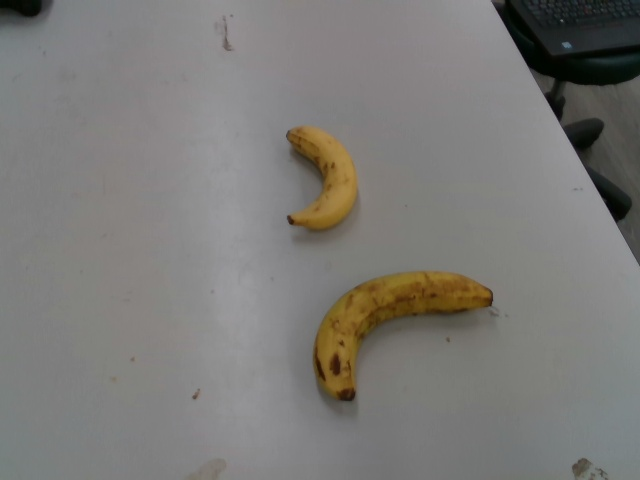banana: (311, 269, 492, 403), (282, 123, 359, 232)
